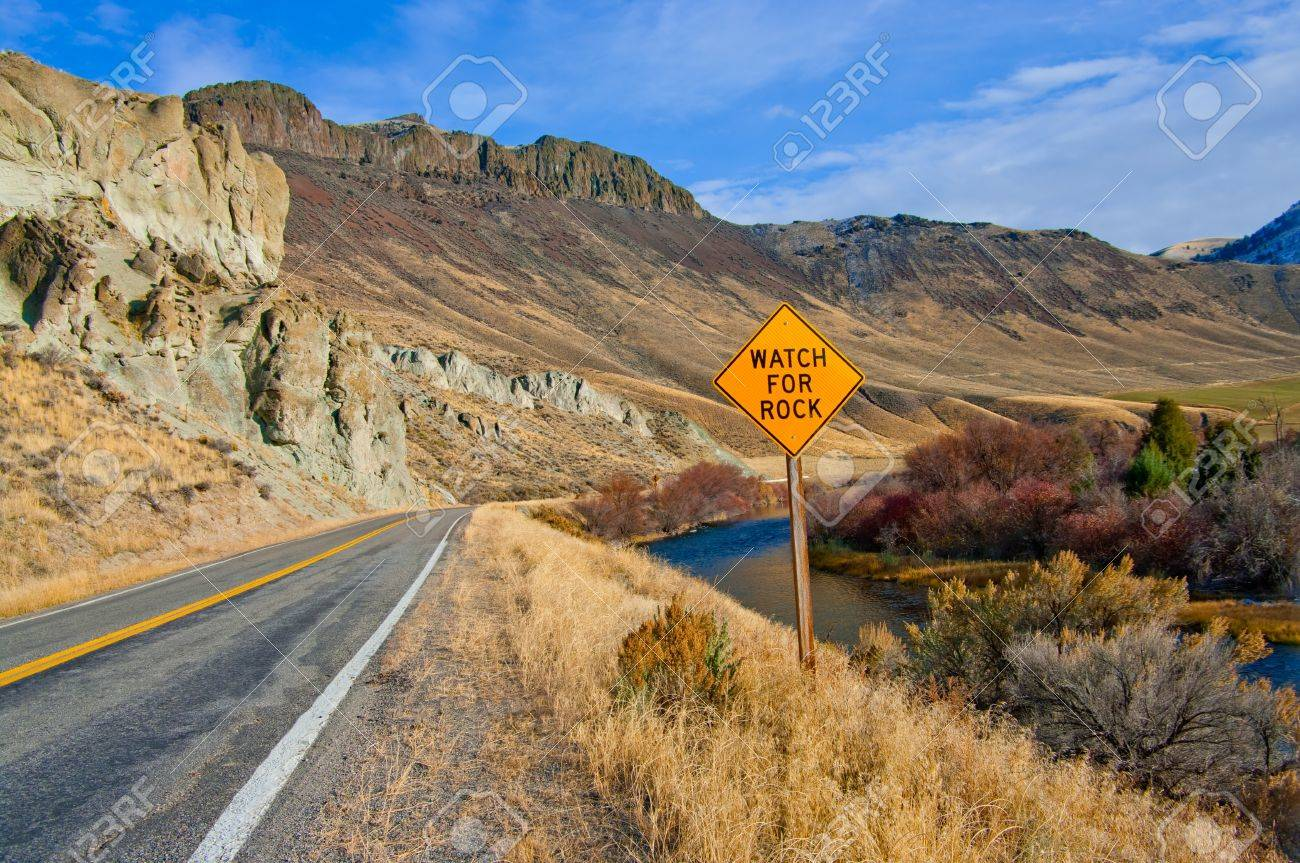FallenSign: (708, 303, 872, 460)
